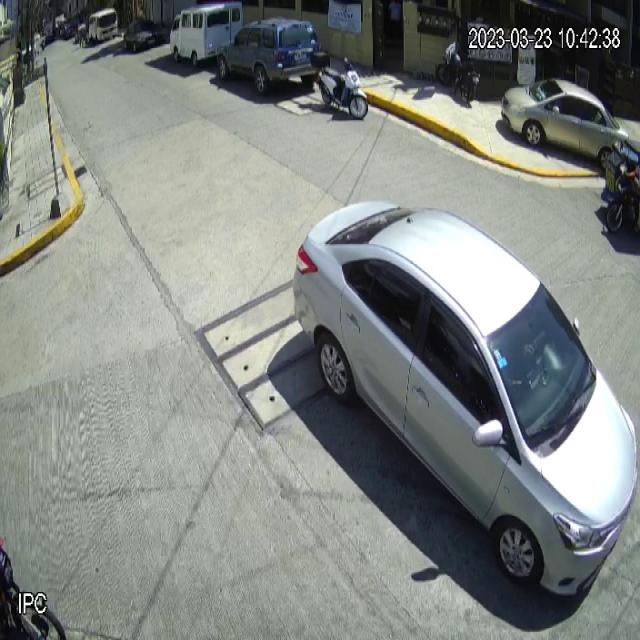Car: (291, 200, 640, 596), (501, 78, 630, 171), (216, 16, 323, 96)
Motorcycle: (312, 54, 368, 120)
Van: (169, 0, 242, 69)
